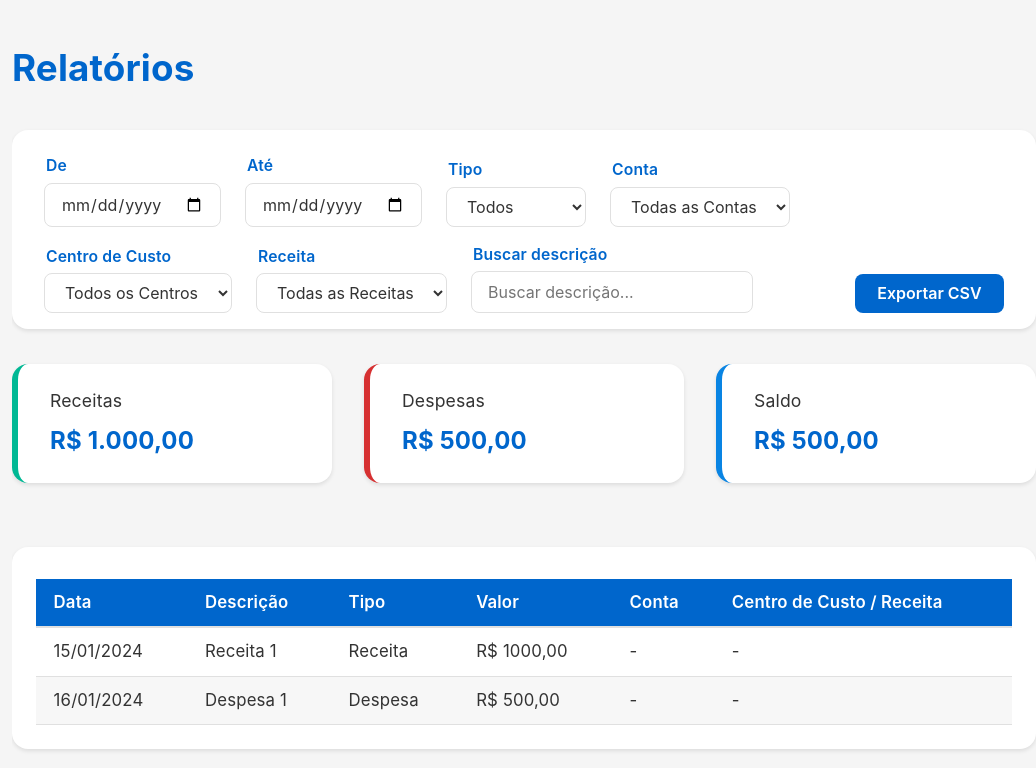
Scenario: Relatorio › deve filtrar lançamentos por tipo
This screenshot has width=1036, height=768.
Select "Receitas" in the 1st dropdown showing "Todos". click: [516, 207]
box: left=446, top=187, right=586, bottom=227
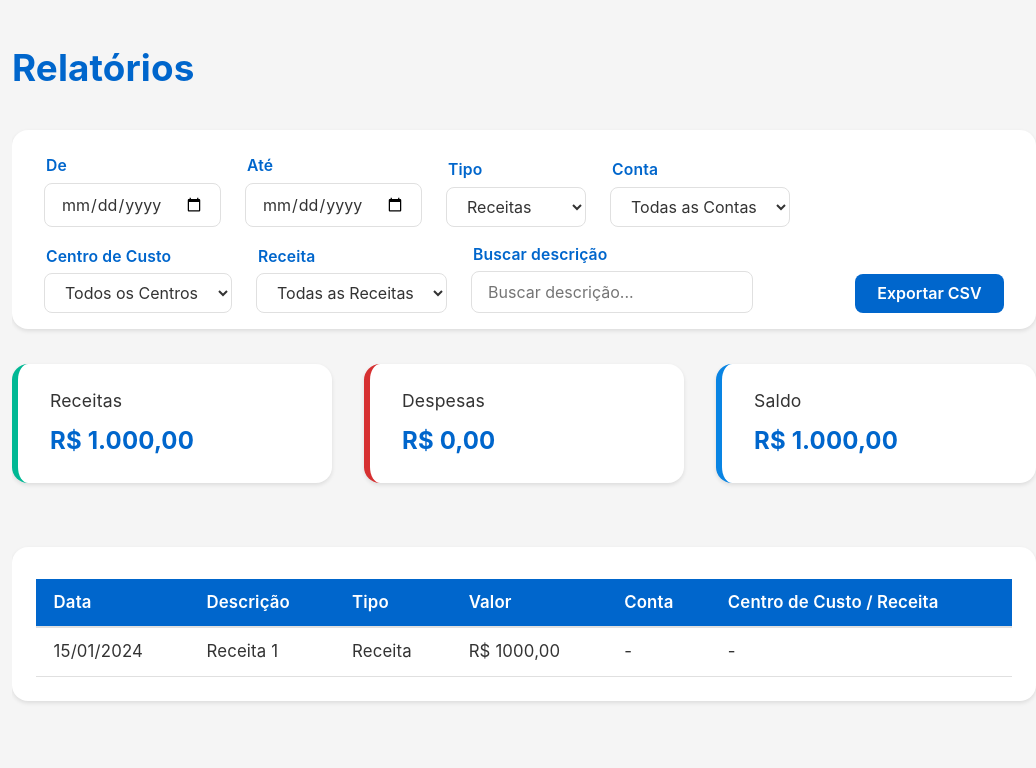
Check: the text "Receita 1" is shown, box left=189, top=627, right=334, bottom=676
Check: the text "Despesa 1" is gone
